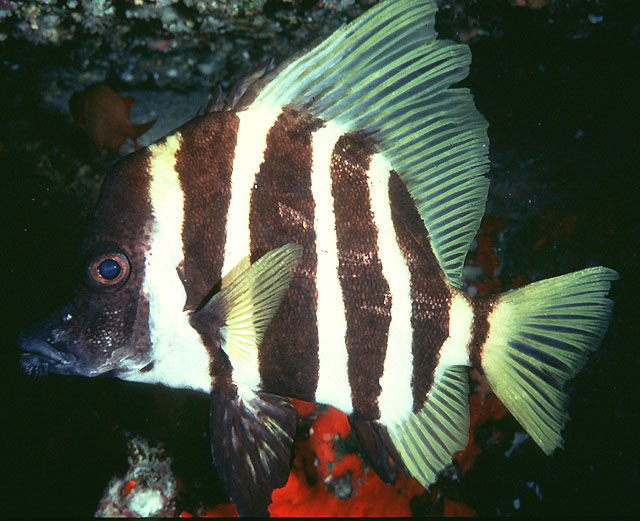fish: (18, 1, 622, 508)
